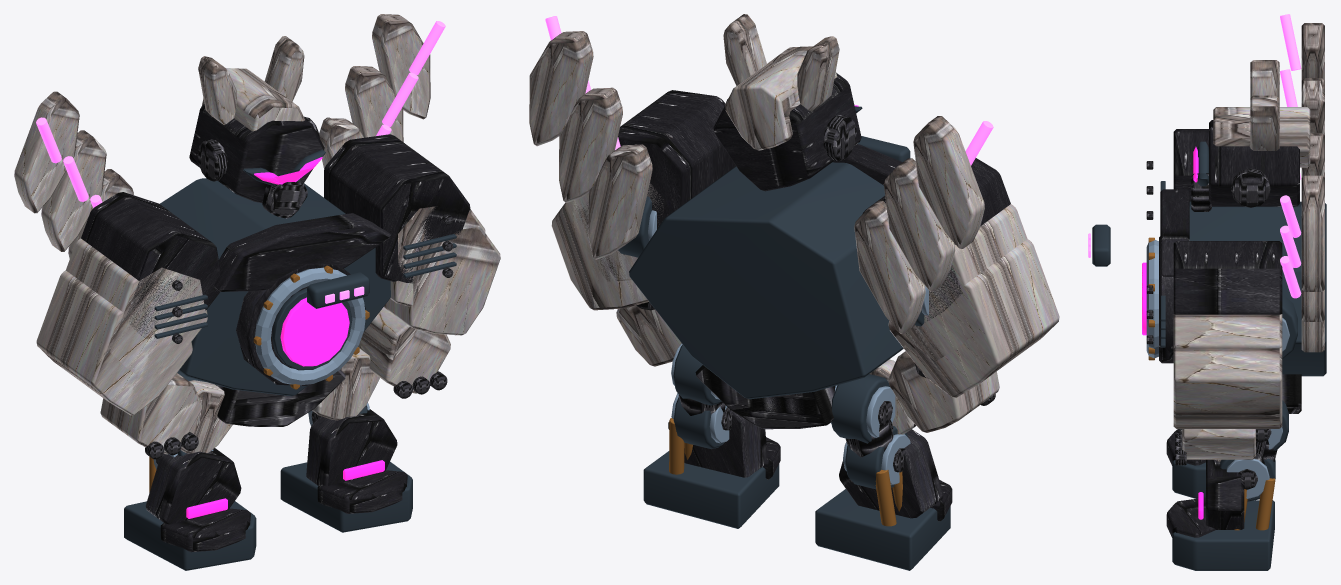
The model's file is sector_10_2.glb.
The picture shows the model from 3 angles, left to right: view 1: azimuth 30°, elevation 25°; view 2: azimuth 150°, elevation 25°; view 3: azimuth 270°, elevation 25°; orthographic projection. The views are drawn at different scales.
Visible parts, largest first — view 1: Navy crown, Upper chest plating, Reinforced heavy torso, Face guard, Greave armor, Greave armor.001, Reactor lens, Reactor concentric ring, Servo housing.001, Servo housing.004, Rift filament, Tapered thigh shield.001 (+1 smaller); view 2: Navy crown, Reinforced heavy torso, Upper chest plating, Servo housing.001, Servo housing.004, Face guard, Greave armor, Greave armor.001, Bearing ring.002, Hub.002, Calf piston, Rift filament (+4 smaller); view 3: Navy crown, Upper chest plating, Reinforced heavy torso, Servo housing.004, Greave armor.001, Face guard, Rift filament, Reactor concentric ring, Servo housing.001, Bearing ring.008, Hub.008, Calf piston.002 (+2 smaller).
Part boxes in pixels (x1,y1,x2,y2): Navy crown: (14, 14, 500, 454); Upper chest plating: (81, 104, 470, 385); Reinforced heavy torso: (154, 149, 456, 396); Face guard: (145, 116, 453, 459); Greave armor: (145, 448, 250, 552); Greave armor.001: (306, 409, 407, 513); Reactor lens: (254, 157, 349, 366); Reactor concentric ring: (255, 267, 365, 385); Servo housing.001: (124, 371, 256, 570); Servo housing.004: (280, 405, 412, 532); Rift filament: (36, 21, 445, 303); Tapered thigh shield.001: (312, 348, 379, 420); Navy crown: (529, 14, 1059, 432); Reinforced heavy torso: (618, 106, 924, 399); Upper chest plating: (618, 73, 1010, 320); Servo housing.001: (815, 374, 950, 570); Servo housing.004: (643, 344, 779, 528); Face guard: (636, 98, 995, 429); Greave armor: (839, 429, 952, 521); Greave armor.001: (668, 412, 780, 479); Bearing ring.002: (831, 385, 910, 484); Hub.002: (845, 401, 906, 472); Calf piston: (875, 469, 902, 526); Rift filament: (545, 16, 993, 165); Navy crown: (1173, 23, 1324, 459); Upper chest plating: (1159, 120, 1299, 363); Reinforced heavy torso: (1092, 141, 1326, 376); Servo housing.004: (1172, 400, 1288, 570); Greave armor.001: (1166, 459, 1244, 537); Face guard: (1146, 161, 1301, 465); Rift filament: (1088, 14, 1301, 298); Reactor concentric ring: (1146, 240, 1289, 358); Servo housing.001: (1172, 460, 1205, 498); Bearing ring.008: (1226, 427, 1282, 498); Hub.008: (1238, 429, 1277, 489); Calf piston.002: (1234, 478, 1275, 530).
Bounding box in the file's own units: 1.52 × 1.64 × 0.8095.
Materials: 8 (3 with a texture image).
